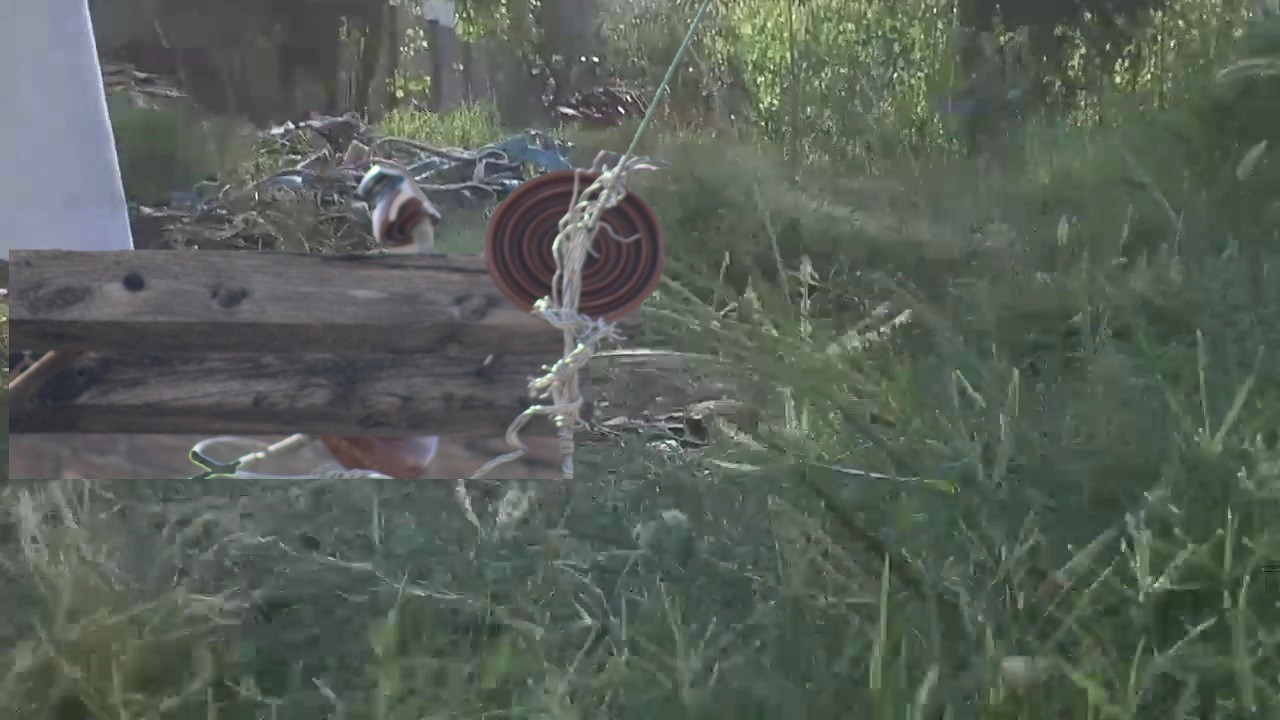defect_pin: (360, 158, 439, 249)
insulator_disc: (482, 167, 667, 328)
